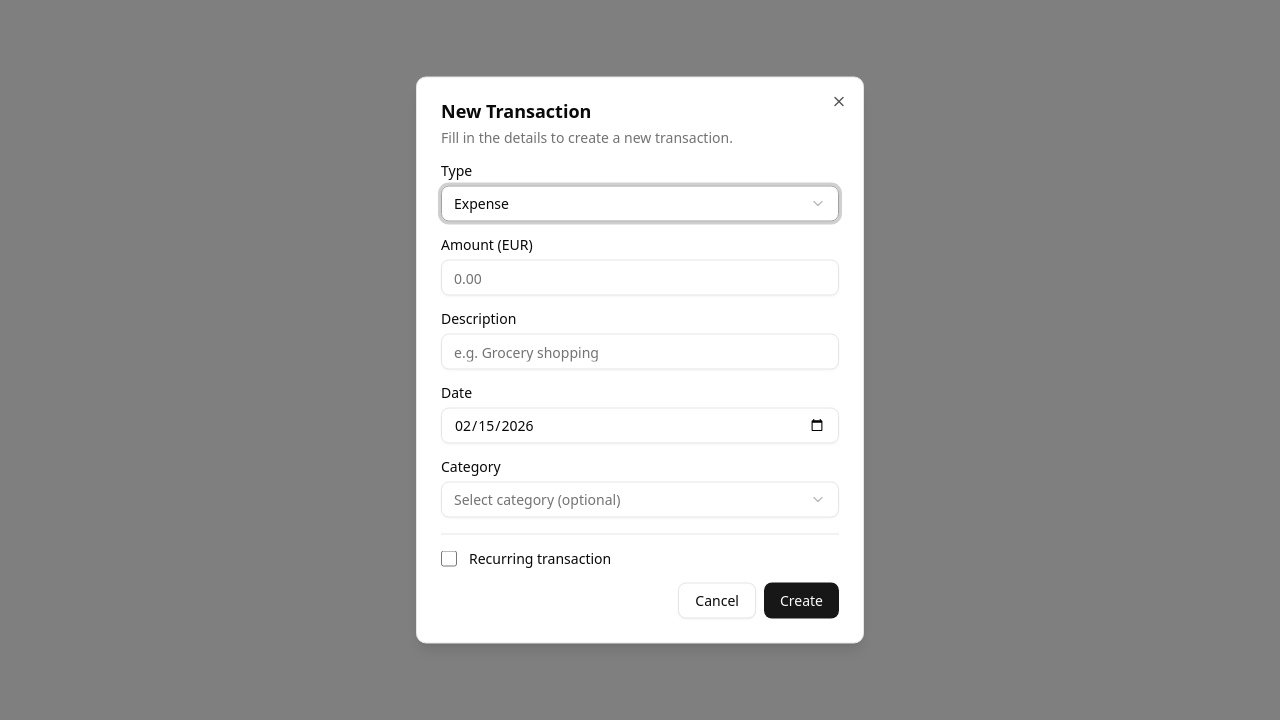
Test: TransactionForm › shows frequency picker when recurring is checked
Click the checkbox labelled "Recurring transaction".
click(449, 558)  # box [441,550,457,566]
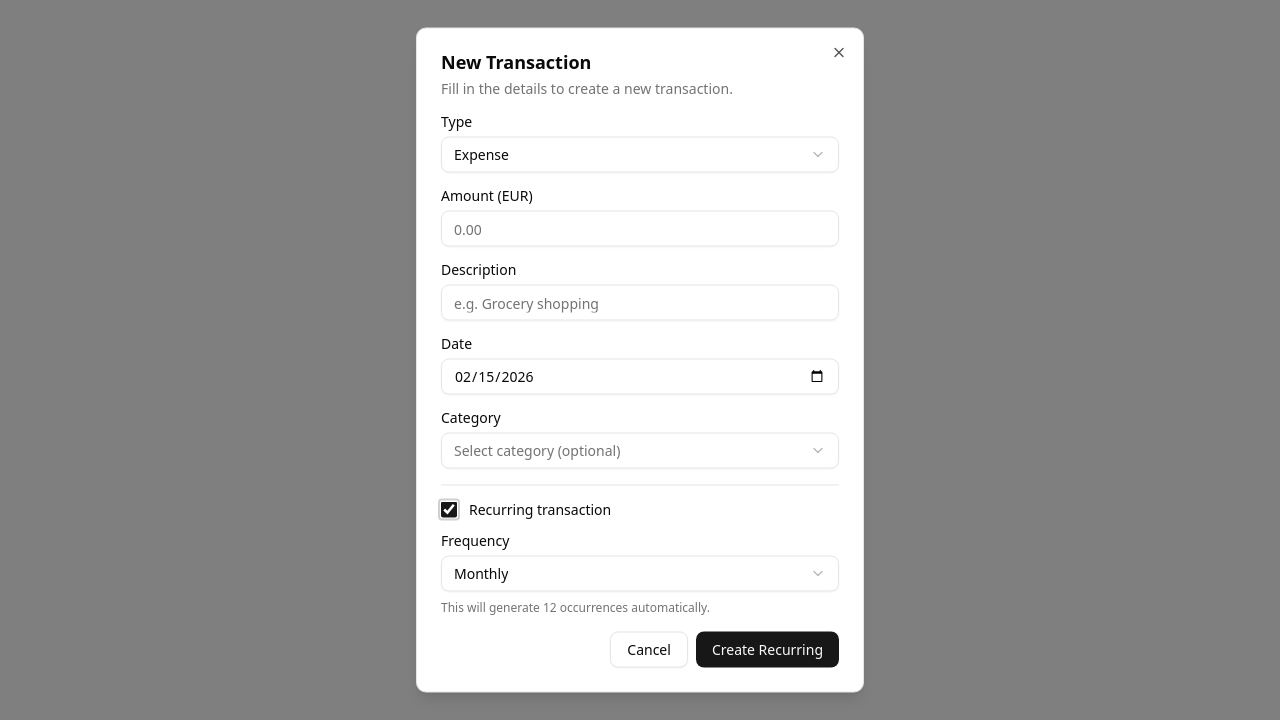
Check: the dropdown named "Frequency" is shown, box [441,556,839,592]
Check: the text "This will generate 12 occurrences automatically." is shown, box [441,598,710,616]
